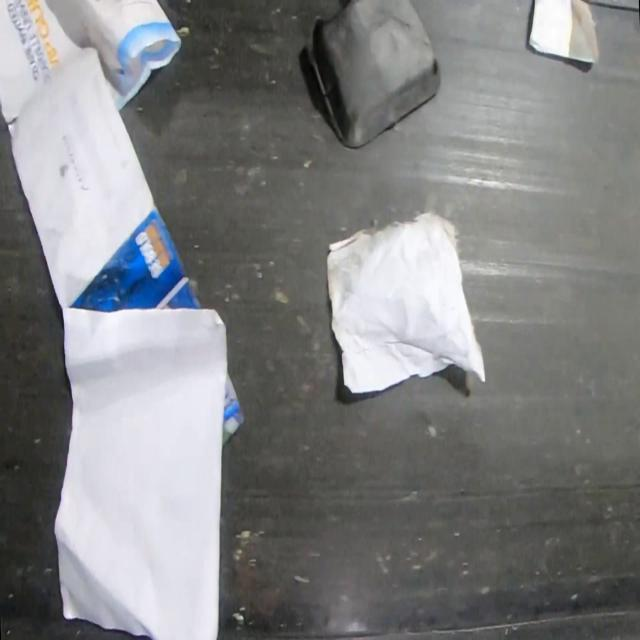rigid_plastic: (305, 0, 444, 150)
